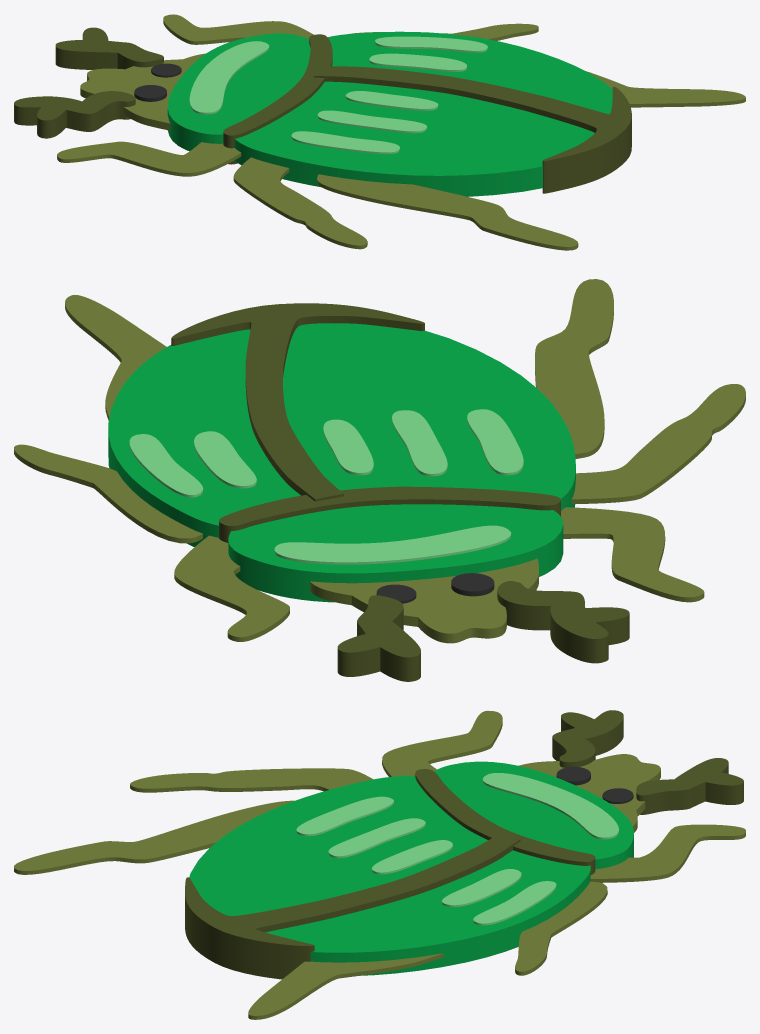
The model's file is emoji_u1fab2.glb.
3 views of the same model, one above another, from view 1: azimuth 30°, elevation 25°; view 2: azimuth 150°, elevation 25°; view 3: azimuth 270°, elevation 25° (orthographic). The views are drawn at different scales.
Parts seen in each view (by area): view 1: emoji_u1fab2; view 2: emoji_u1fab2; view 3: emoji_u1fab2.
Boxes of the visible parts, left/top/right/bottom form: emoji_u1fab2: left=14, top=14, right=745, bottom=250; emoji_u1fab2: left=14, top=279, right=745, bottom=681; emoji_u1fab2: left=14, top=710, right=745, bottom=1019.
Bounding box in the file's own units: 0.0335 × 0.0018 × 0.0339.
